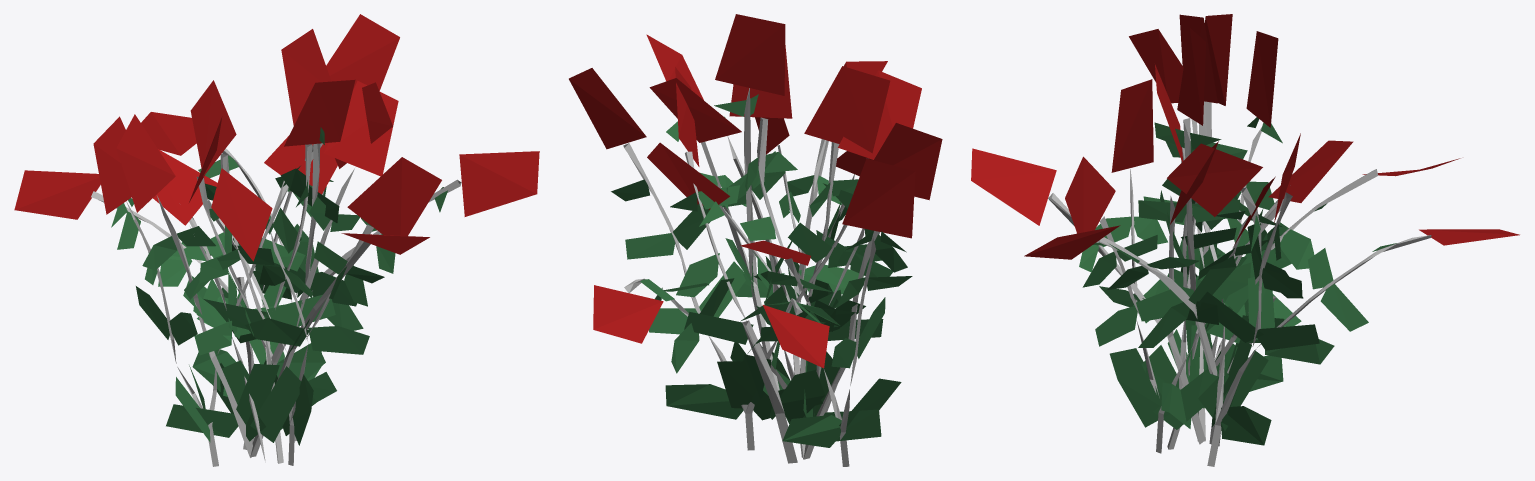
The model's file is Rose.fbx.
3 views of the same model, side by side, from view 1: azimuth 30°, elevation 25°; view 2: azimuth 150°, elevation 25°; view 3: azimuth 270°, elevation 25° (orthographic). The views are drawn at different scales.
Visible parts, largest first — view 1: roses1Flower, roses1Leaf, roses1Main; view 2: roses1Flower, roses1Leaf, roses1Main; view 3: roses1Leaf, roses1Flower, roses1Main.
Boxes of the visible parts, x1,y1,x2,y2 form: roses1Flower: (14, 14, 539, 261); roses1Leaf: (111, 127, 447, 445); roses1Main: (91, 143, 461, 466); roses1Flower: (569, 14, 942, 368); roses1Leaf: (611, 94, 912, 447); roses1Main: (623, 88, 880, 466); roses1Leaf: (1079, 117, 1396, 445); roses1Flower: (971, 14, 1519, 259); roses1Main: (1048, 101, 1431, 466).
Bounding box in the file's own units: 1.31 × 1.46 × 1.68.
